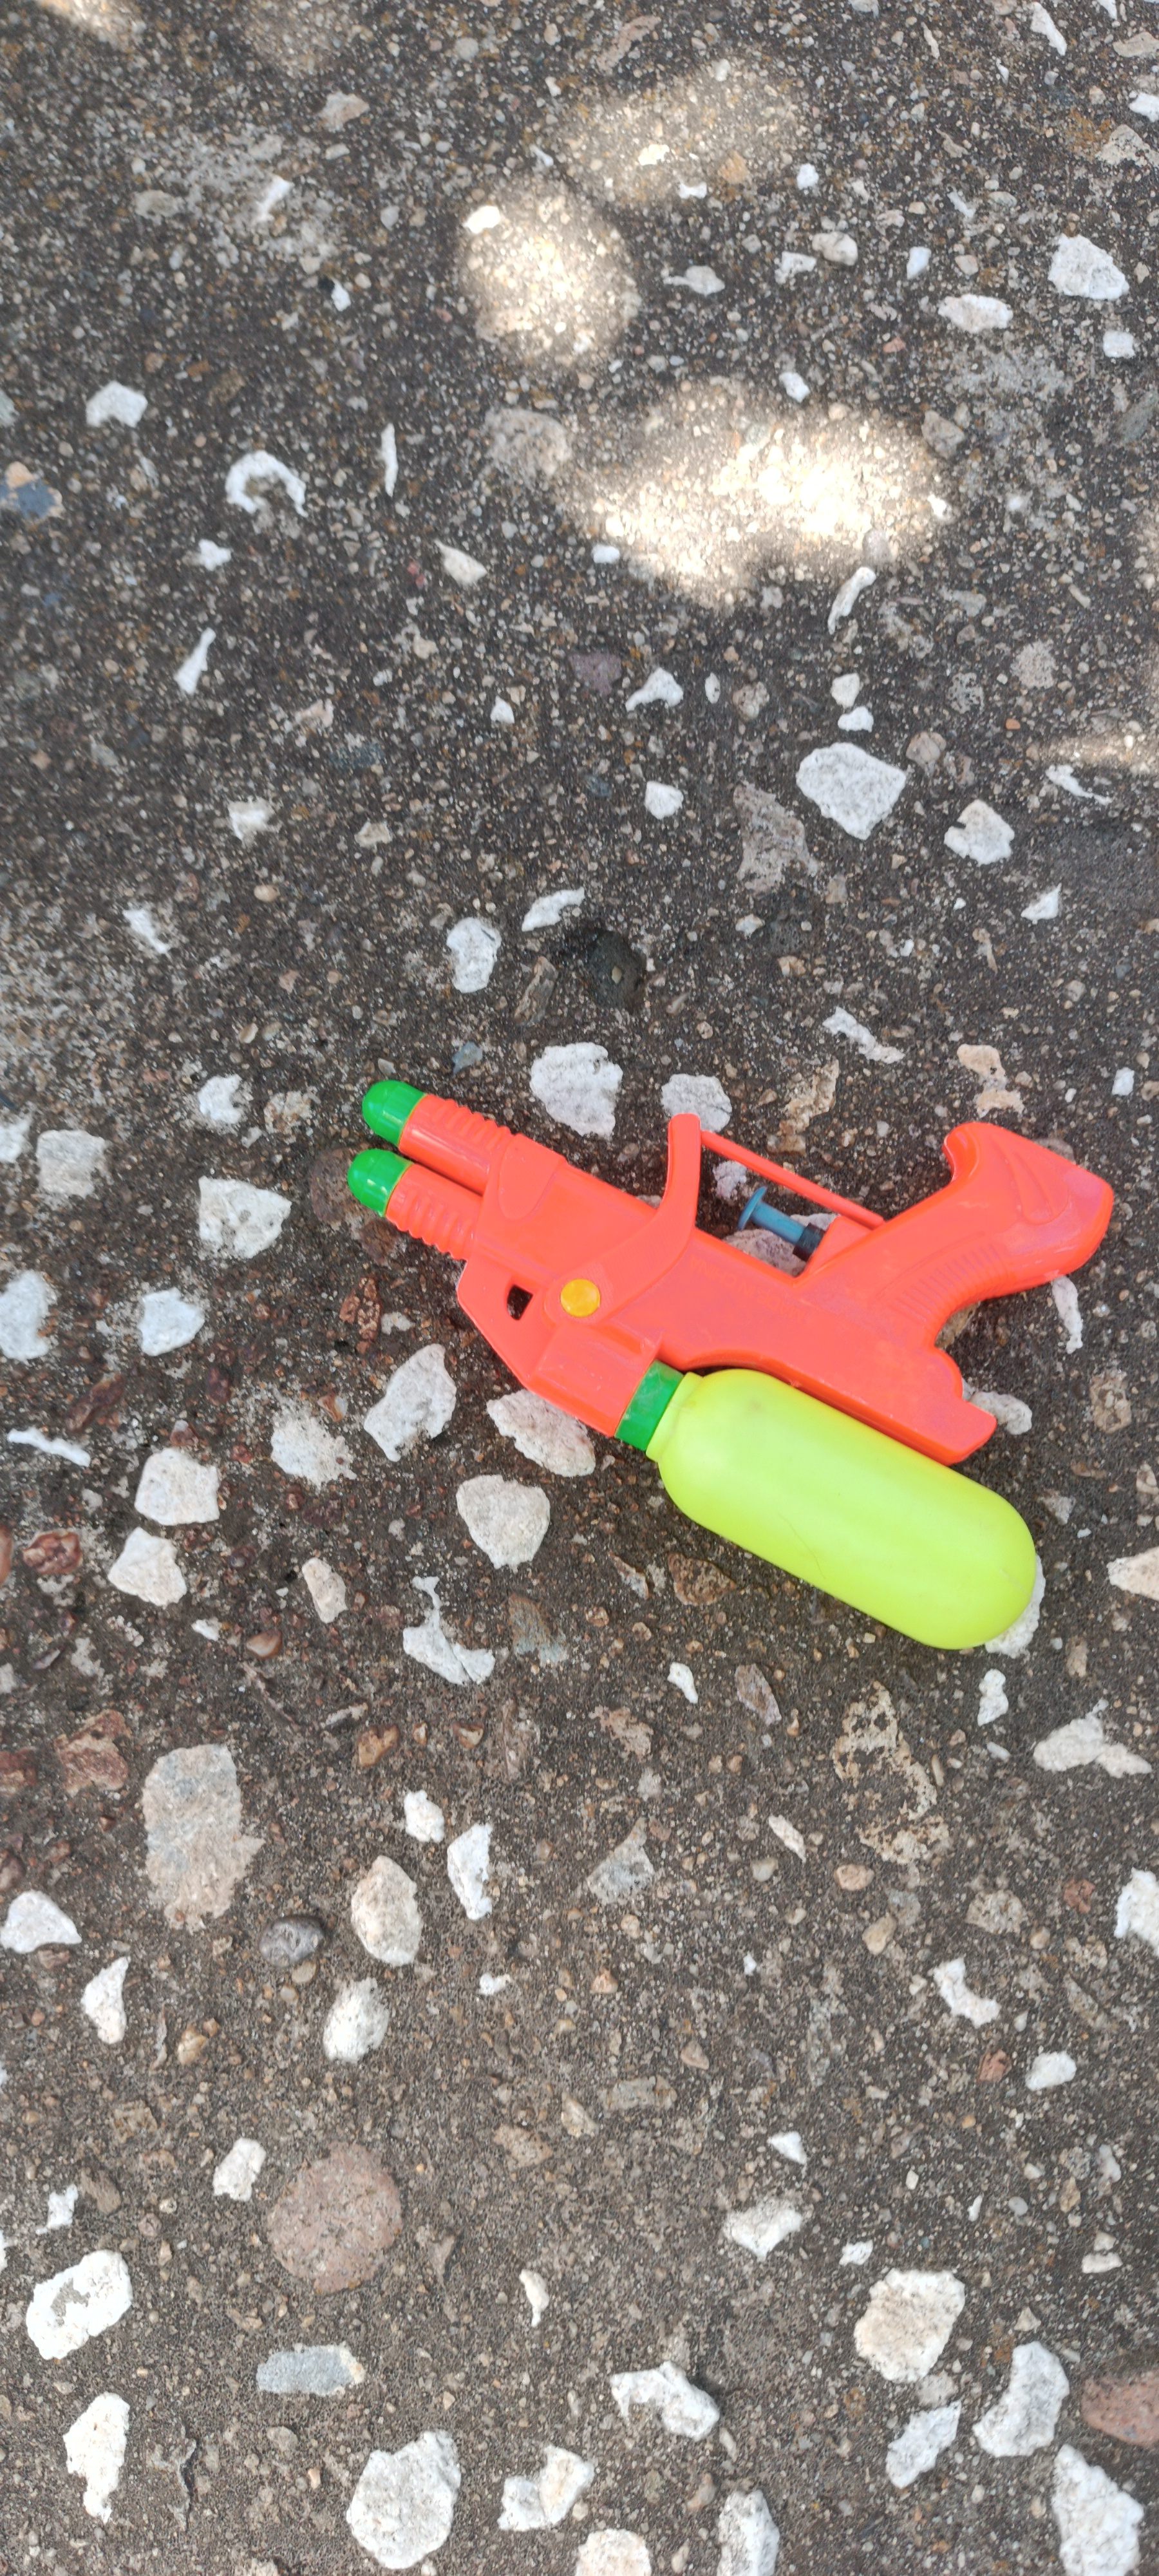Water Gun: (345, 1079, 1116, 1651)
